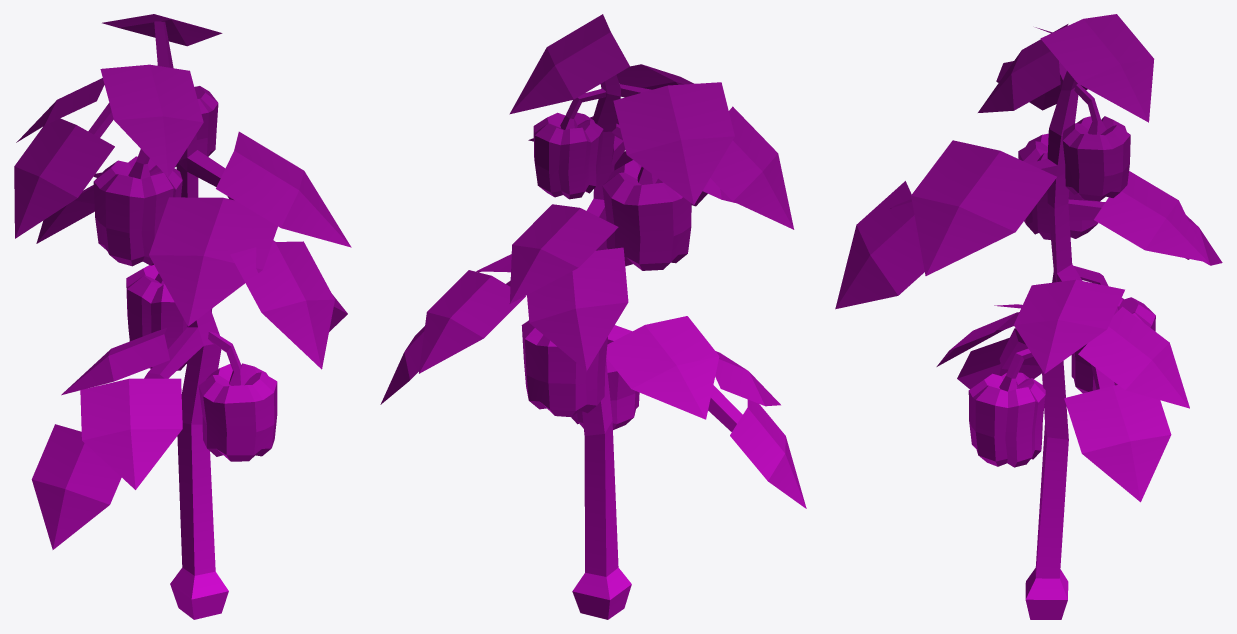
The model's file is SM_Prop_Plant_Bush_01_Pepper.fbx.
3 views of the same model, side by side, from view 1: azimuth 30°, elevation 25°; view 2: azimuth 150°, elevation 25°; view 3: azimuth 270°, elevation 25° (orthographic). The views are drawn at different scales.
Parts seen in each view (by area): view 1: SM_Prop_Plant_Bush_01_Pepper; view 2: SM_Prop_Plant_Bush_01_Pepper; view 3: SM_Prop_Plant_Bush_01_Pepper.
Boxes of the visible parts, bbox=[...] form: SM_Prop_Plant_Bush_01_Pepper: bbox=[14, 14, 351, 619]; SM_Prop_Plant_Bush_01_Pepper: bbox=[380, 14, 806, 619]; SM_Prop_Plant_Bush_01_Pepper: bbox=[835, 14, 1222, 619].
Bounding box in the file's own units: 62.71 × 98.88 × 59.72.
